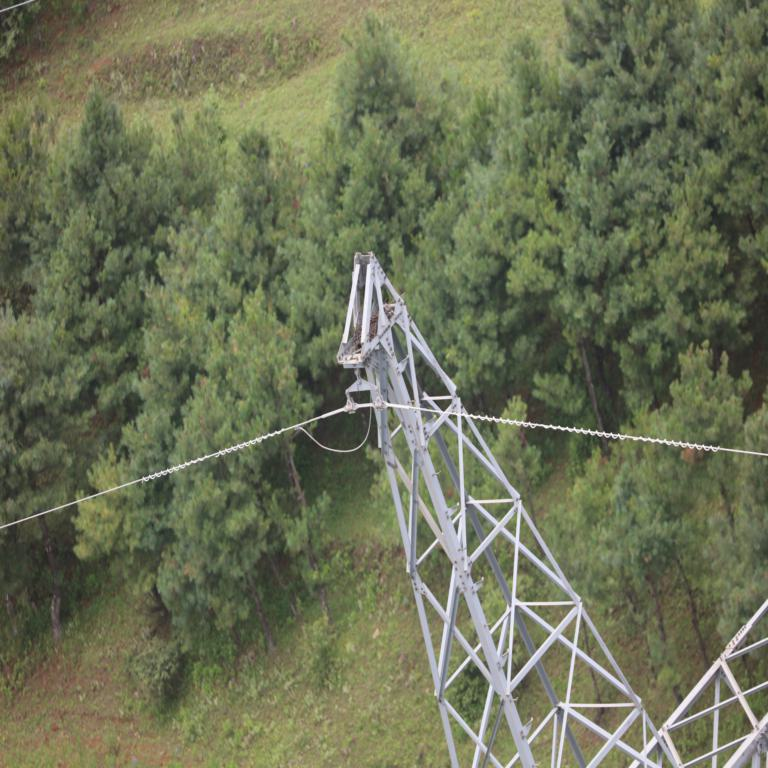nest: (354, 310, 387, 346)
